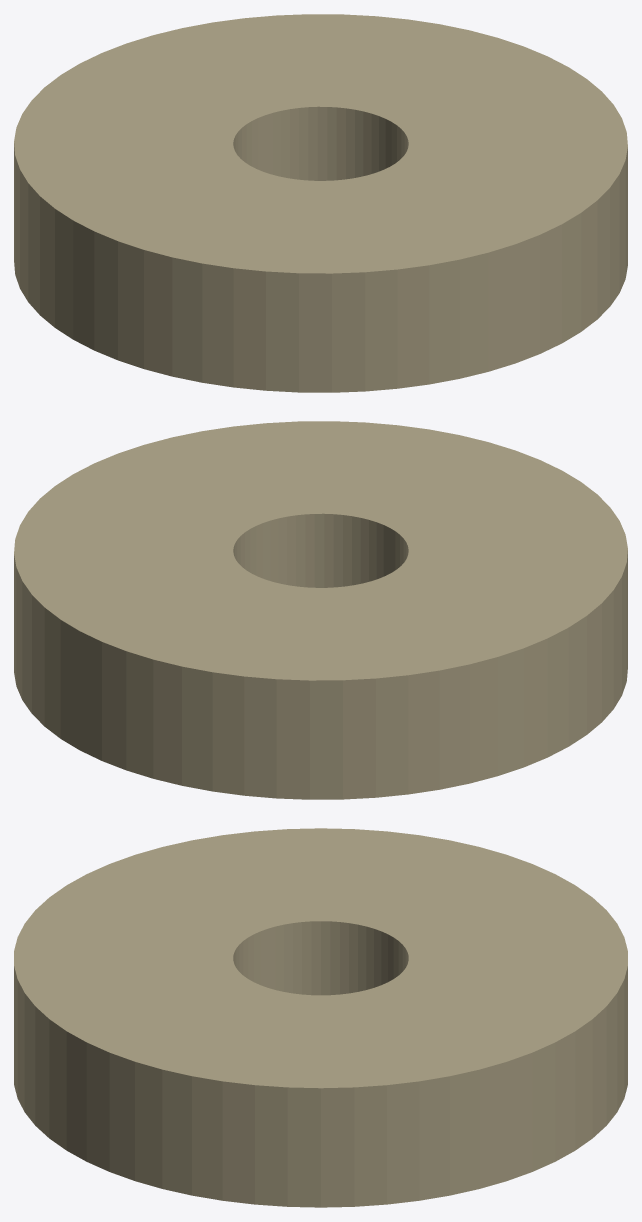
File: injector-protection-cap.glb
3 renders of one model, top to bottom at view 1: azimuth 30°, elevation 25°; view 2: azimuth 150°, elevation 25°; view 3: azimuth 270°, elevation 25°, orthographic.
Parts seen in each view (by area): view 1: world; view 2: world; view 3: world.
Part boxes in pixels (box(x1,y1,x2,y2)): world: box(14, 14, 627, 392); world: box(14, 421, 627, 799); world: box(14, 828, 627, 1207).
Size of the model in its own units: 0.014 by 0.003 by 0.014.
